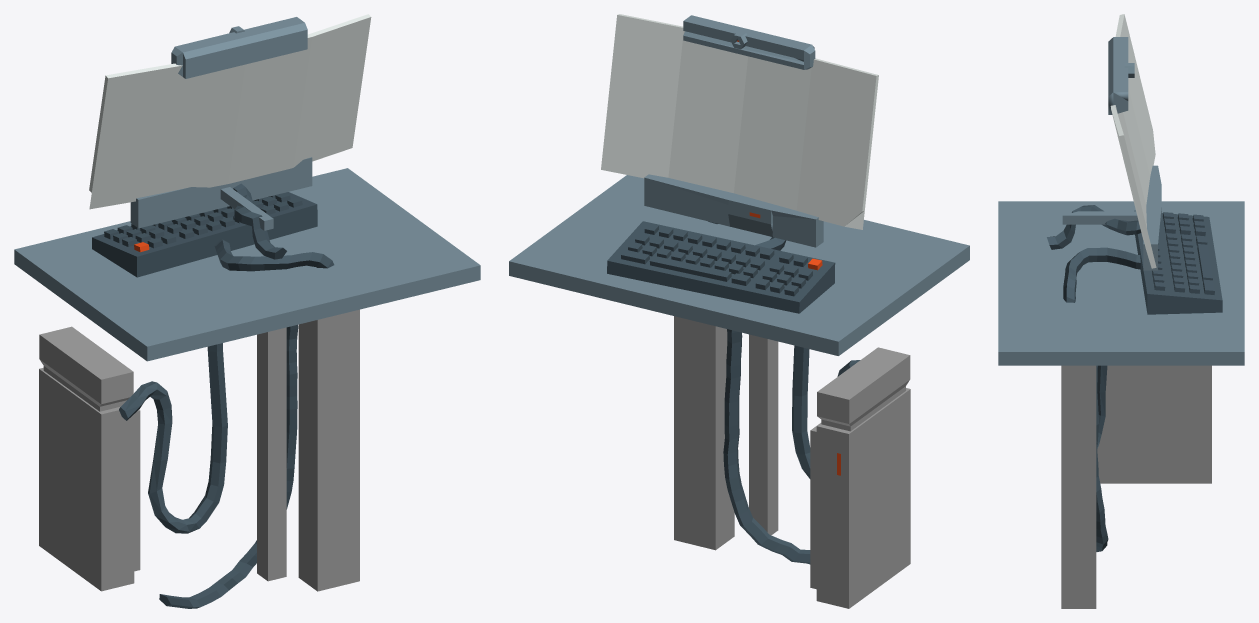
The model's file is ScifiPC.glb.
The picture shows the model from 3 angles, left to right: view 1: azimuth 30°, elevation 25°; view 2: azimuth 150°, elevation 25°; view 3: azimuth 270°, elevation 25°; orthographic projection. The views are drawn at different scales.
Visible parts, largest first — view 1: Scifi Wall Mounted Computer; view 2: Scifi Wall Mounted Computer; view 3: Scifi Wall Mounted Computer.
Boxes of the visible parts, x1,y1,x2,y2 form: Scifi Wall Mounted Computer: (14, 14, 480, 608); Scifi Wall Mounted Computer: (509, 14, 969, 608); Scifi Wall Mounted Computer: (998, 14, 1244, 608).
Bounding box in the file's own units: 0.71 × 1.11 × 0.49.
